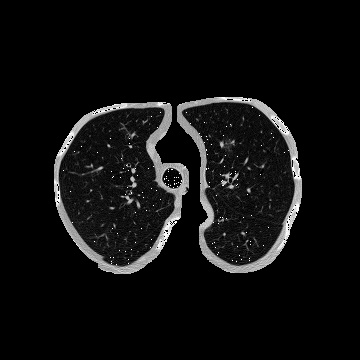PN: (223, 141, 233, 151)
